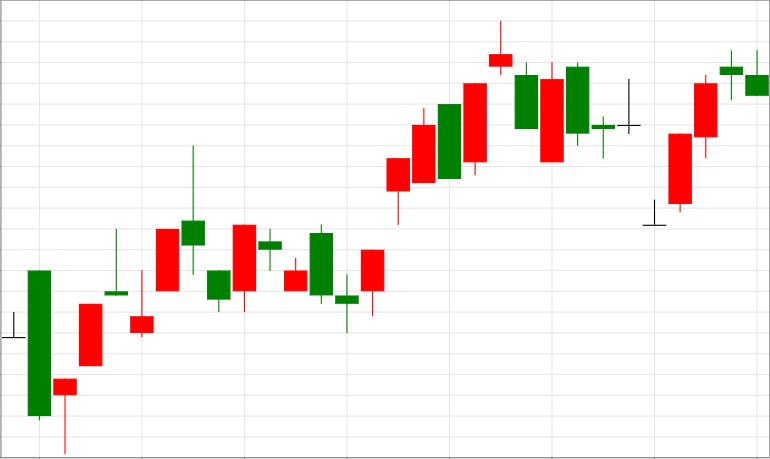evening_star_fall: (361, 20, 537, 318)
morning_star_rise: (233, 225, 385, 332)
